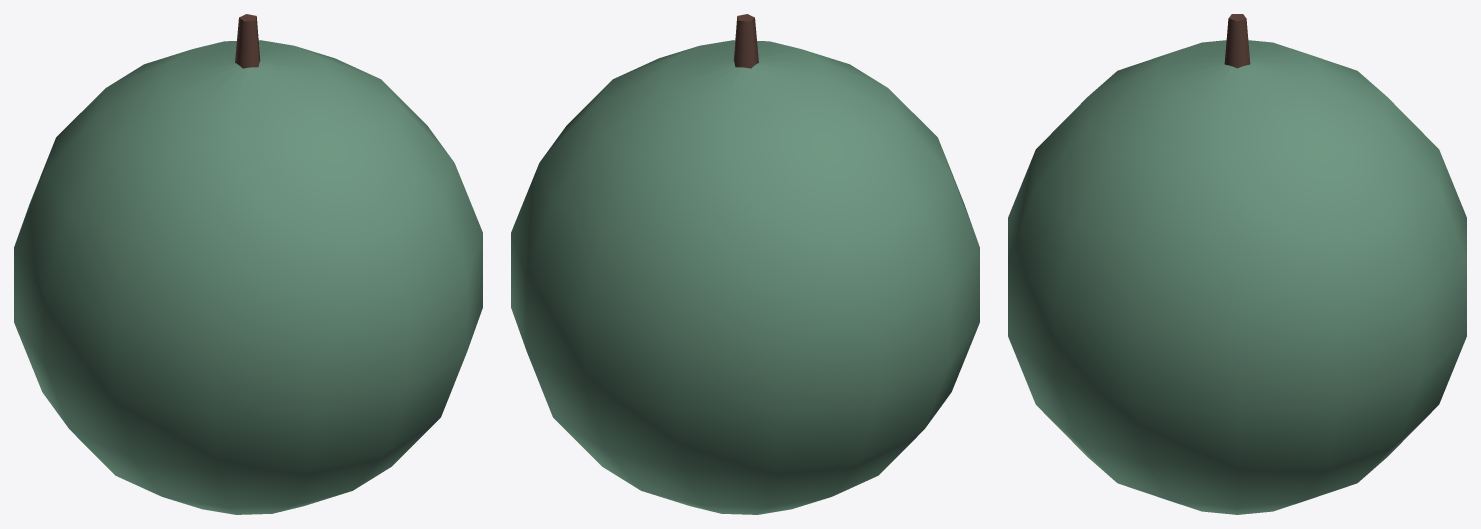
Rendered from fruit-blueberry-unripe.gltf.
3 renders of one model, left to right at view 1: azimuth 30°, elevation 25°; view 2: azimuth 150°, elevation 25°; view 3: azimuth 270°, elevation 25°, orthographic.
Bounding box in the file's own units: 0.2364 × 0.264 × 0.2304.
